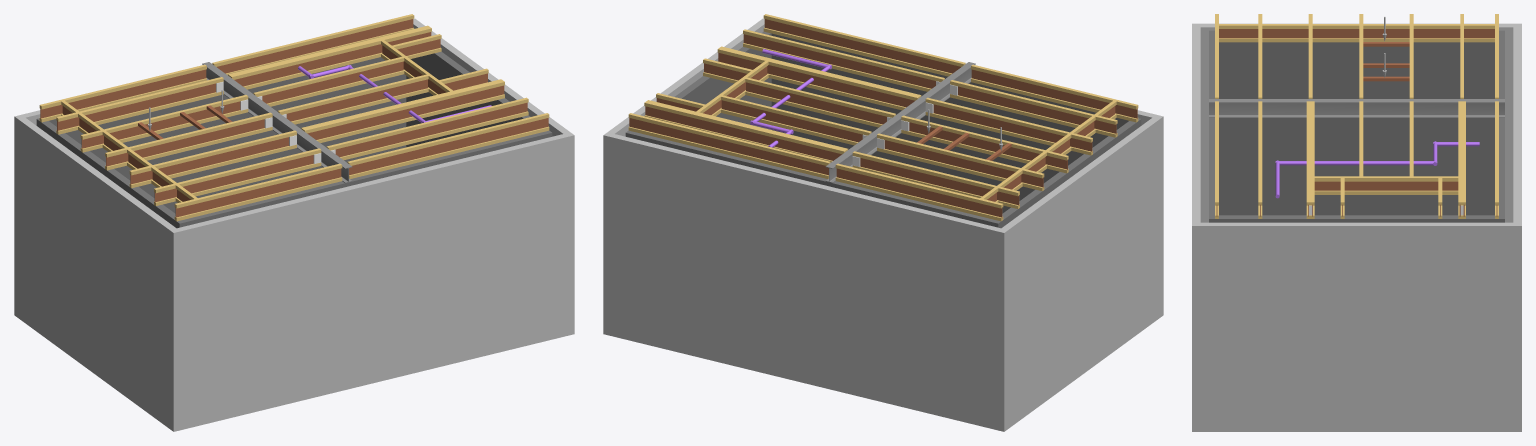
3 views of the same model, side by side, from view 1: azimuth 30°, elevation 25°; view 2: azimuth 150°, elevation 25°; view 3: azimuth 270°, elevation 25° (orthographic). The views are drawn at different scales.
Visible parts, largest first — view 1: MatrixTransform_Group_Group_MatrixTransform__Geometry_7, MatrixTransform_Group_Group_MatrixTransform_MatrixTransform_Grou, MatrixTransform_Group_Group_MatrixTransform__Geometry_3, MatrixTransform_Group_Group_MatrixTransform__Geometry_13, MatrixTransform_Group_Group_MatrixTransform__Geometry_5, MatrixTransform_Group_Group_MatrixTransform_MatrixTransform__Geo, MatrixTransform_Group_Group_MatrixTransform__Geometry_9, MatrixTransform_Group_Group_MatrixTransform__Geometry_1, MatrixTransform_Group_Group_MatrixTransform__Geometry_11; view 2: MatrixTransform_Group_Group_MatrixTransform__Geometry_15, MatrixTransform_Group_Group_MatrixTransform_MatrixTransform_Grou, MatrixTransform_Group_Group_MatrixTransform__Geometry_3, MatrixTransform_Group_Group_MatrixTransform__Geometry_5, MatrixTransform_Group_Group_MatrixTransform__Geometry_13, MatrixTransform_Group_Group_MatrixTransform_MatrixTransform__Geo, MatrixTransform_Group_Group_MatrixTransform__Geometry_1, MatrixTransform_Group_Group_MatrixTransform__Geometry_9, MatrixTransform_Group_Group_MatrixTransform__Geometry_11; view 3: MatrixTransform_Group_Group_MatrixTransform__Geometry_11, MatrixTransform_Group_Group_MatrixTransform__Geometry_1, MatrixTransform_Group_Group_MatrixTransform_MatrixTransform_Grou, MatrixTransform_Group_Group_MatrixTransform_MatrixTransform__Geo, MatrixTransform_Group_Group_MatrixTransform__Geometry_3, MatrixTransform_Group_Group_MatrixTransform__Geometry_9, MatrixTransform_Group_Group_MatrixTransform__Geometry_7, MatrixTransform_Group_Group_MatrixTransform__Geometry_15, MatrixTransform_Group_Group_MatrixTransform__Geometry_5, MatrixTransform_Group_Group_MatrixTransform__Geometry_13, MatrixTransform_Group_Group_MatrixTransform__ShapeDrawable_2.
Boxes of the visible parts, x1,y1,x2,y2 form: MatrixTransform_Group_Group_MatrixTransform__Geometry_7: (173, 134, 574, 431); MatrixTransform_Group_Group_MatrixTransform_MatrixTransform_Grou: (39, 14, 549, 221); MatrixTransform_Group_Group_MatrixTransform__Geometry_3: (14, 116, 176, 431); MatrixTransform_Group_Group_MatrixTransform__Geometry_13: (37, 57, 406, 213); MatrixTransform_Group_Group_MatrixTransform__Geometry_5: (179, 132, 552, 227); MatrixTransform_Group_Group_MatrixTransform_MatrixTransform__Geo: (202, 62, 352, 183); MatrixTransform_Group_Group_MatrixTransform__Geometry_9: (406, 51, 551, 147); MatrixTransform_Group_Group_MatrixTransform__Geometry_1: (36, 119, 181, 228); MatrixTransform_Group_Group_MatrixTransform__Geometry_11: (413, 18, 573, 136); MatrixTransform_Group_Group_MatrixTransform__Geometry_15: (603, 134, 1004, 431); MatrixTransform_Group_Group_MatrixTransform_MatrixTransform_Grou: (628, 14, 1138, 221); MatrixTransform_Group_Group_MatrixTransform__Geometry_3: (1001, 116, 1163, 431); MatrixTransform_Group_Group_MatrixTransform__Geometry_5: (771, 33, 1140, 213); MatrixTransform_Group_Group_MatrixTransform__Geometry_13: (625, 132, 998, 227); MatrixTransform_Group_Group_MatrixTransform_MatrixTransform__Geo: (825, 62, 975, 183); MatrixTransform_Group_Group_MatrixTransform__Geometry_1: (996, 119, 1141, 228); MatrixTransform_Group_Group_MatrixTransform__Geometry_9: (626, 31, 771, 132); MatrixTransform_Group_Group_MatrixTransform__Geometry_11: (604, 18, 764, 136); MatrixTransform_Group_Group_MatrixTransform__Geometry_11: (1192, 222, 1521, 431); MatrixTransform_Group_Group_MatrixTransform__Geometry_1: (1209, 30, 1504, 215); MatrixTransform_Group_Group_MatrixTransform_MatrixTransform_Grou: (1215, 14, 1498, 218); MatrixTransform_Group_Group_MatrixTransform_MatrixTransform__Geo: (1209, 99, 1504, 117); MatrixTransform_Group_Group_MatrixTransform__Geometry_3: (1193, 23, 1520, 222); MatrixTransform_Group_Group_MatrixTransform__Geometry_9: (1209, 215, 1504, 222); MatrixTransform_Group_Group_MatrixTransform__Geometry_7: (1192, 23, 1200, 225); MatrixTransform_Group_Group_MatrixTransform__Geometry_15: (1513, 23, 1521, 225); MatrixTransform_Group_Group_MatrixTransform__Geometry_5: (1209, 31, 1214, 218); MatrixTransform_Group_Group_MatrixTransform__Geometry_13: (1499, 31, 1504, 218); MatrixTransform_Group_Group_MatrixTransform__ShapeDrawable_2: (1275, 161, 1437, 165).
Size of the model in its own units: 5694 by 3245 by 3920.
